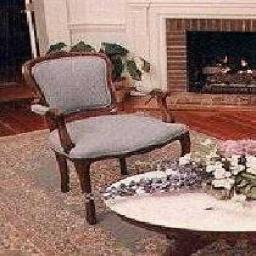Chair: (21, 53, 191, 226)
